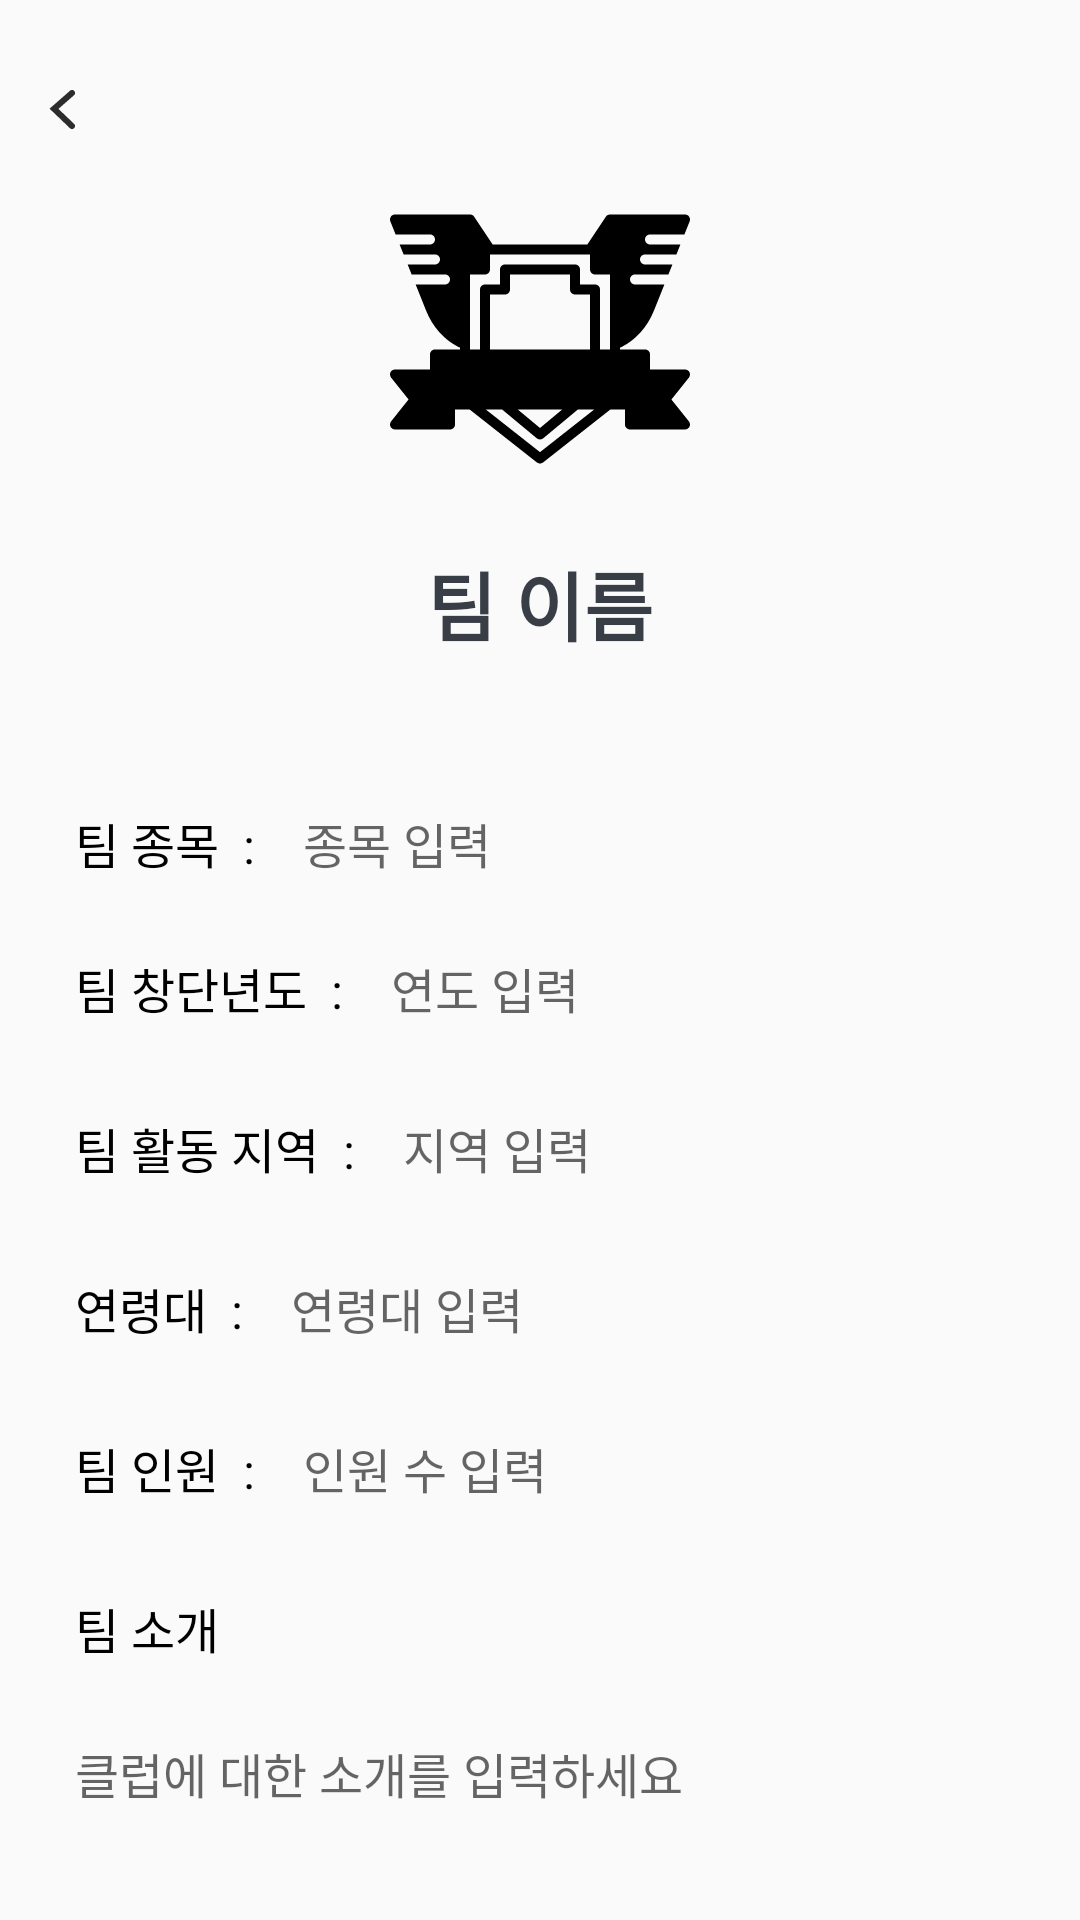

Locate icon controls on the screen. Image size 1080 × 1920, boxes as detection(x1, y1, x2, y2).
arrow: detection(49, 90, 75, 129)
badge emblem: detection(390, 214, 690, 464)
